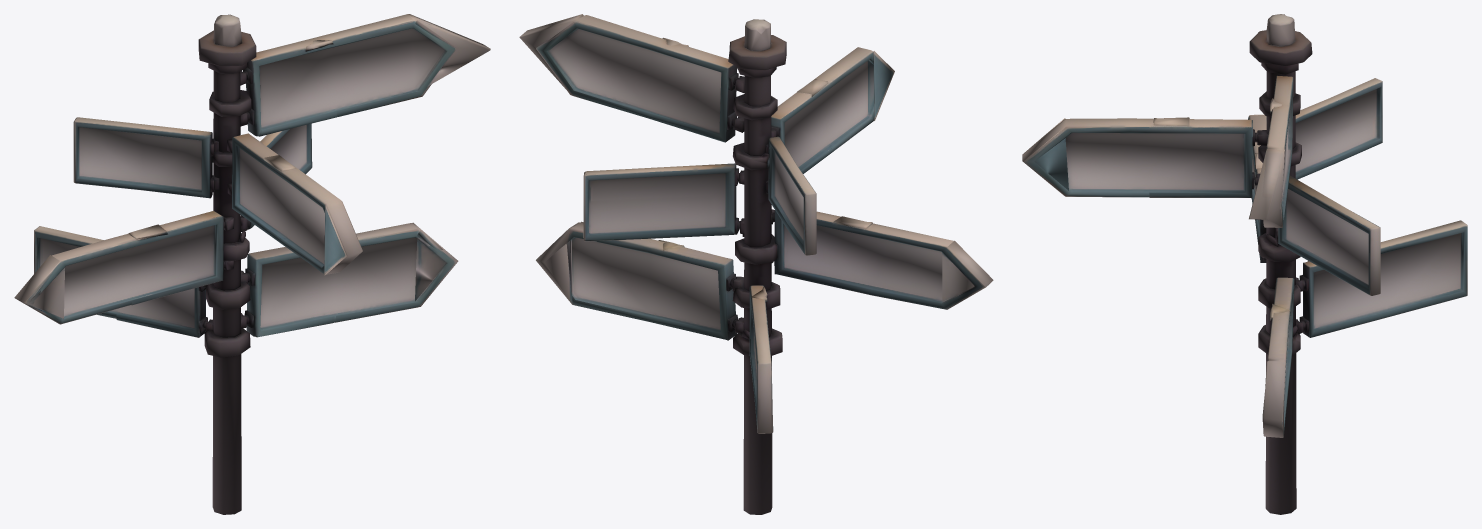
File: signpost.glb
3 views of the same model, side by side, from view 1: azimuth 30°, elevation 25°; view 2: azimuth 150°, elevation 25°; view 3: azimuth 270°, elevation 25° (orthographic).
Parts seen in each view (by area): view 1: tripo_node_kodyurd-model-79____________________; view 2: tripo_node_kodyurd-model-79____________________; view 3: tripo_node_kodyurd-model-79____________________.
Boxes of the visible parts, x1,y1,x2,y2 form: tripo_node_kodyurd-model-79____________________: (14,14,490,514); tripo_node_kodyurd-model-79____________________: (519,14,993,514); tripo_node_kodyurd-model-79____________________: (1022,14,1467,514).
Size of the model in its own units: 0.998 by 0.998 by 0.8184.
1 material, 1 textured.
